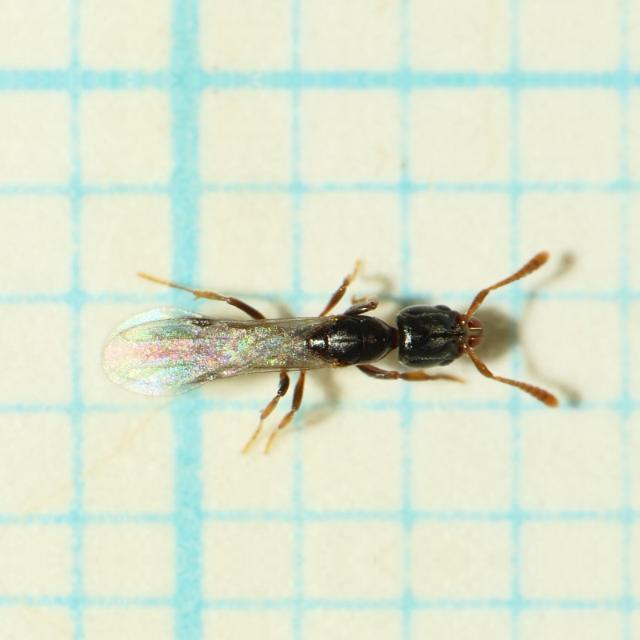Ponera: (96, 234, 604, 422)
